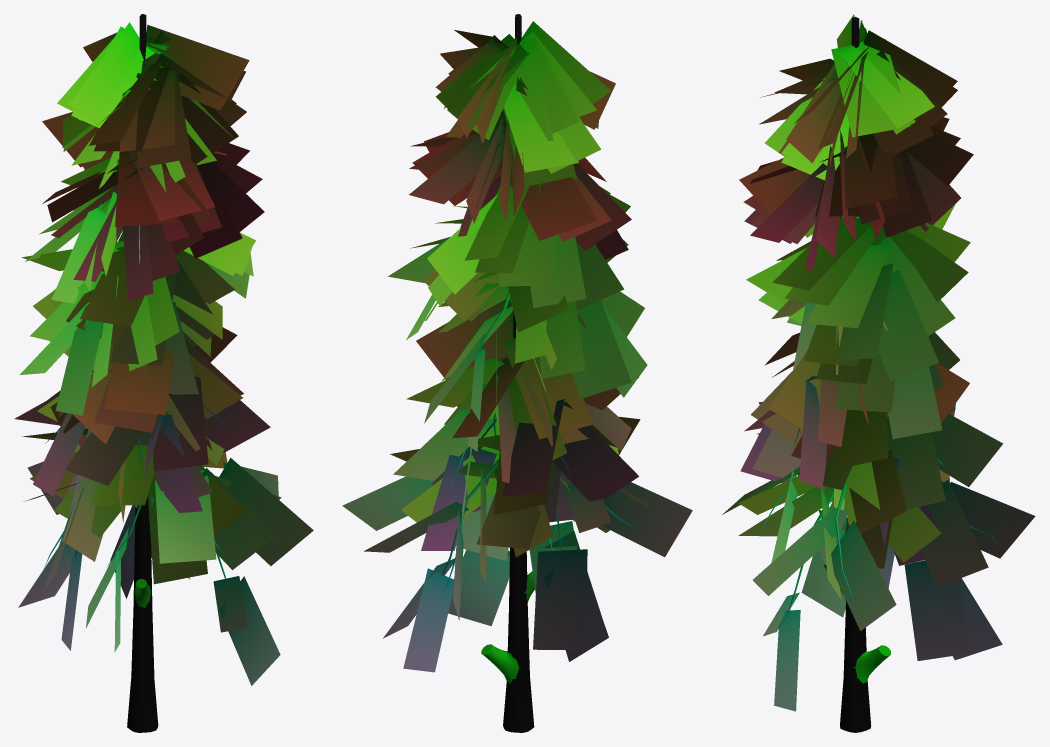
The model's file is M_Pine_3_6.fbx.
3 renders of one model, left to right at view 1: azimuth 30°, elevation 25°; view 2: azimuth 150°, elevation 25°; view 3: azimuth 270°, elevation 25°, orthographic.
Parts seen in each view (by area): view 1: Tree_6; view 2: Tree_6; view 3: Tree_6.
Boxes of the visible parts, bbox=[...] form: Tree_6: bbox=[14, 14, 313, 732]; Tree_6: bbox=[342, 14, 692, 732]; Tree_6: bbox=[722, 14, 1035, 732].
Bounding box in the file's own units: 1477 × 3508 × 1409.
